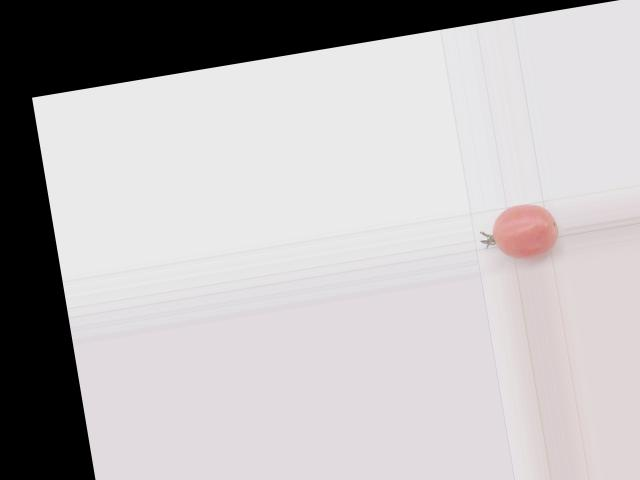tomato: (489, 199, 561, 263)
